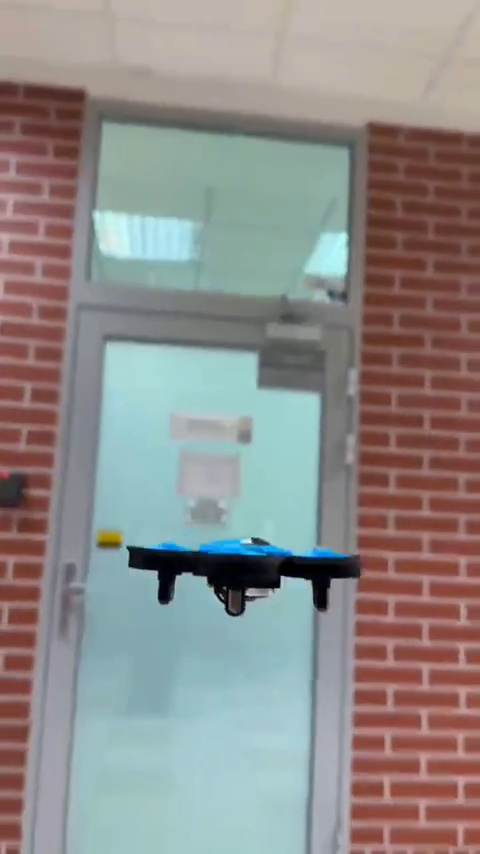drone: (125, 536, 360, 619)
